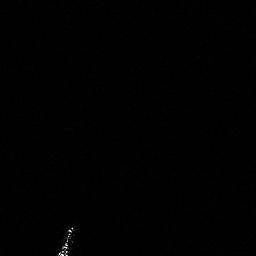ship: (54, 222, 79, 256)
